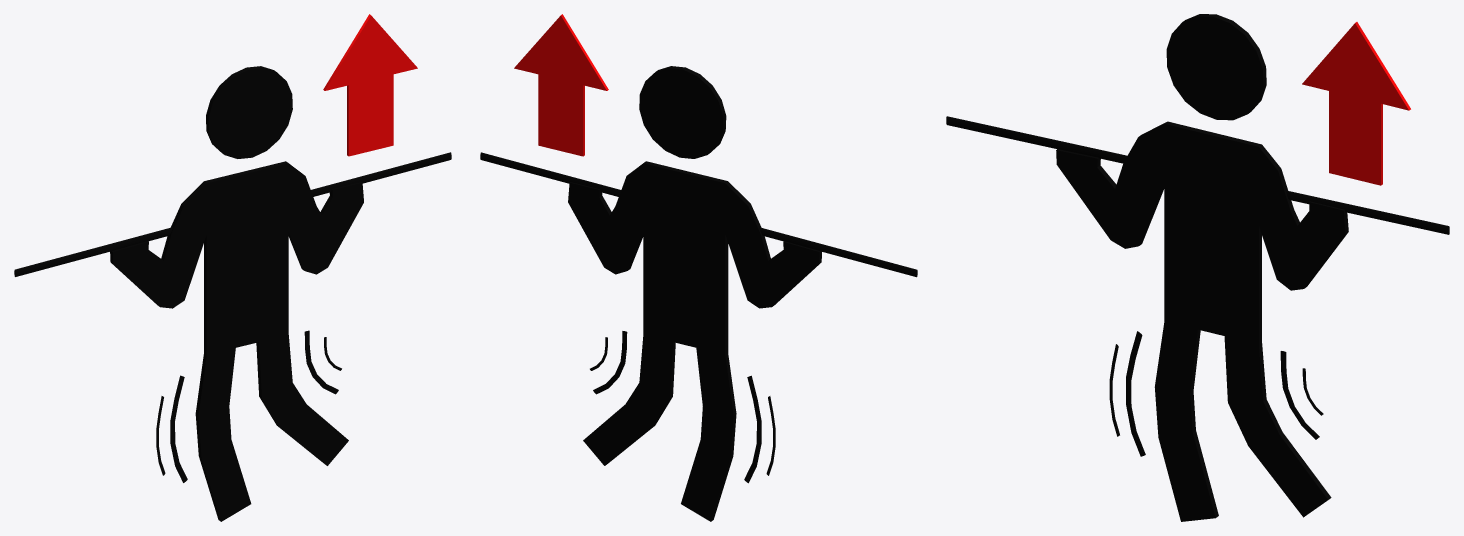
The model's file is Balancing.fbx.
3 renders of one model, left to right at view 1: azimuth 30°, elevation 25°; view 2: azimuth 150°, elevation 25°; view 3: azimuth 330°, elevation 25°, orthographic. The views are drawn at different scales.
Parts seen in each view (by area): view 1: Balancing, Box002, Cylinder001, Cylinder002, Cylinder005; view 2: Balancing, Box002, Cylinder001, Cylinder002, Cylinder005; view 3: Balancing, Box002, Cylinder001, Cylinder002, Cylinder005, Cylinder003.
Part boxes in pixels (x1,y1,x2,y2): Balancing: [110, 161, 363, 521]; Box002: [323, 14, 417, 156]; Cylinder001: [206, 66, 292, 158]; Cylinder002: [14, 152, 451, 276]; Cylinder005: [170, 375, 187, 482]; Balancing: [568, 161, 821, 521]; Box002: [514, 14, 608, 156]; Cylinder001: [639, 66, 726, 158]; Cylinder002: [480, 152, 917, 277]; Cylinder005: [744, 375, 761, 483]; Balancing: [1056, 121, 1348, 521]; Box002: [1302, 22, 1410, 185]; Cylinder001: [1166, 14, 1266, 120]; Cylinder002: [946, 116, 1449, 234]; Cylinder005: [1126, 331, 1145, 456]; Cylinder003: [1280, 351, 1319, 439].
Bounding box in the file's own units: 89.68 × 1 × 92.23.
